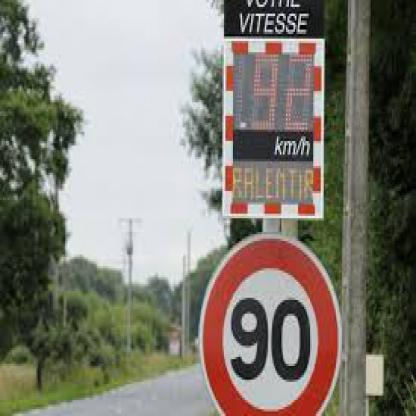Speed Limit 90: (202, 235, 340, 416)
